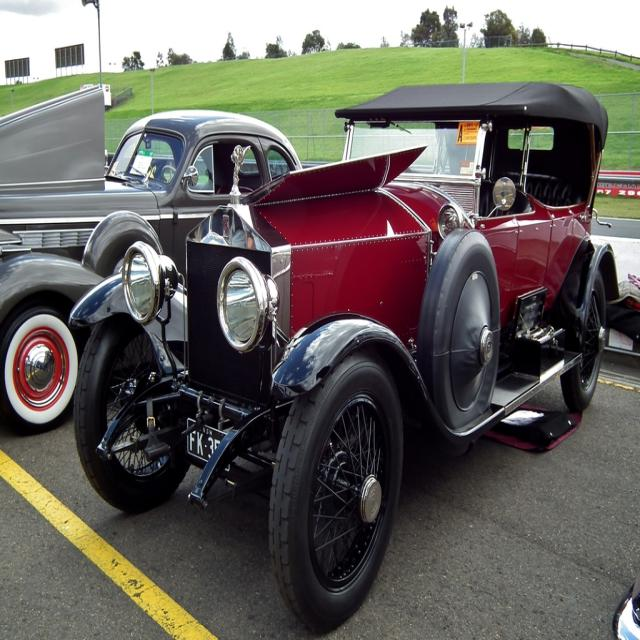car: (73, 83, 619, 633)
